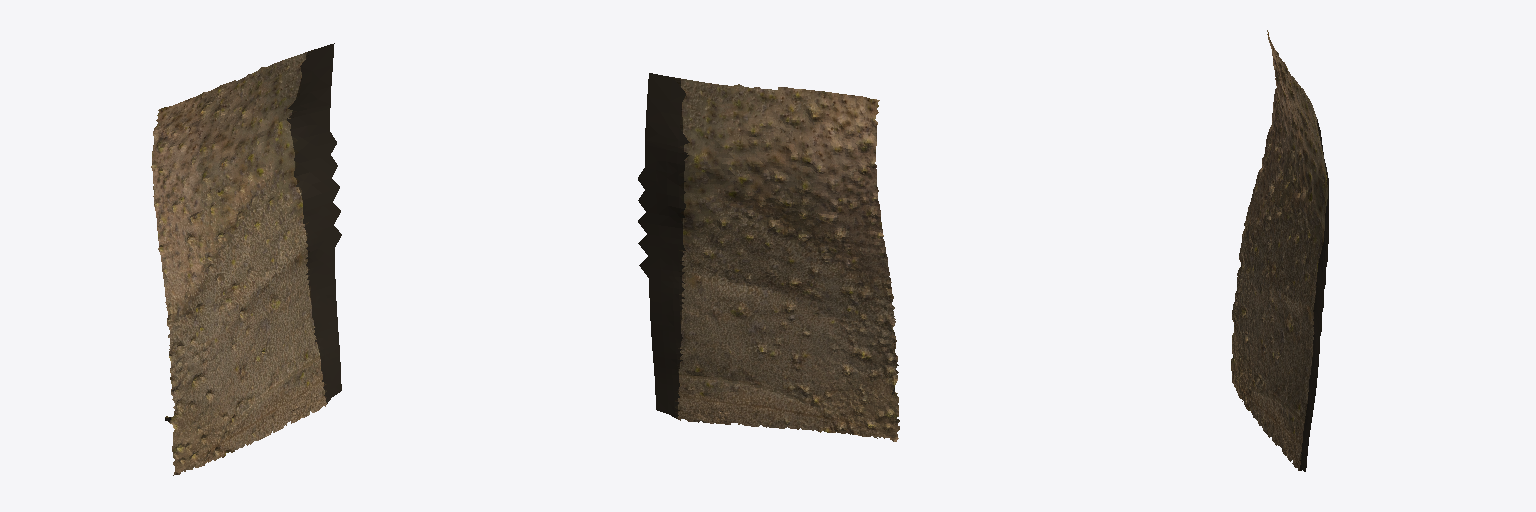
3 renders of one model, left to right at view 1: azimuth 30°, elevation 25°; view 2: azimuth 150°, elevation 25°; view 3: azimuth 270°, elevation 25°, orthographic.
Size of the model in its own units: 0.9736 by 1.53 by 0.3858.
1 materials, 1 textured.